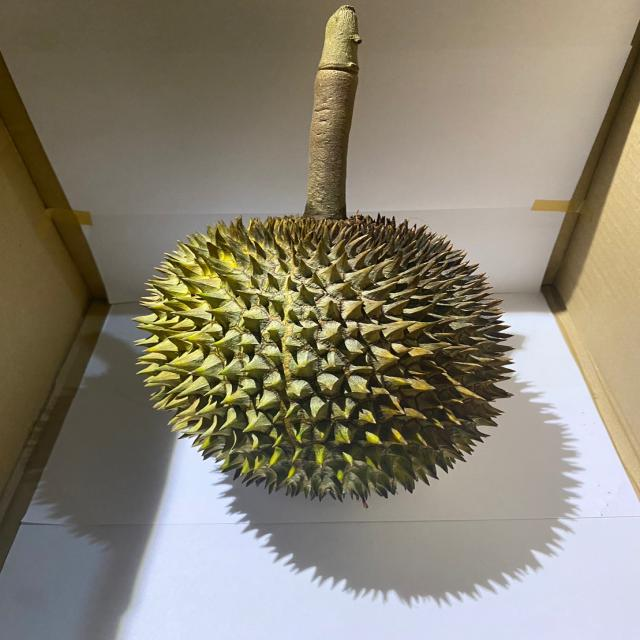immature: (133, 210, 520, 510)
